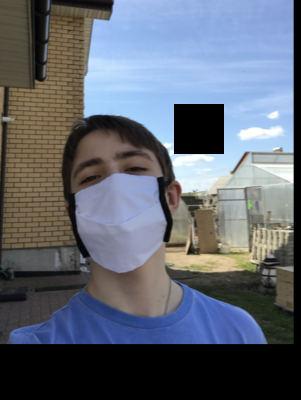with_mask: (68, 147, 173, 274)
